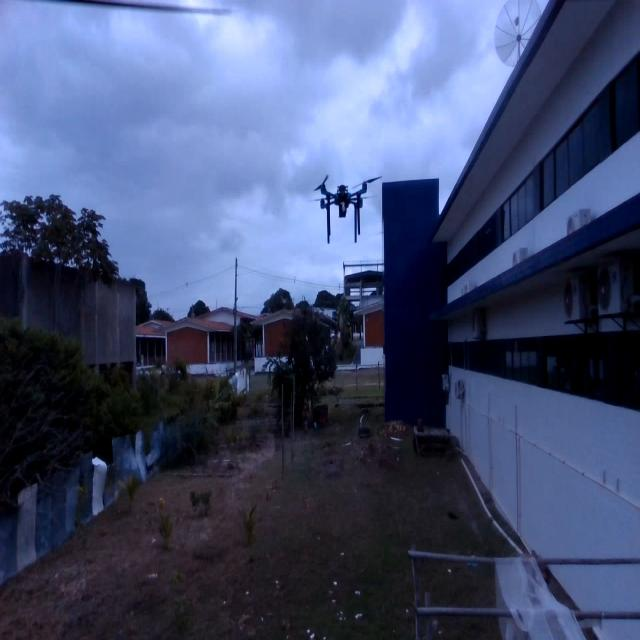-uav-: (303, 161, 386, 255)
